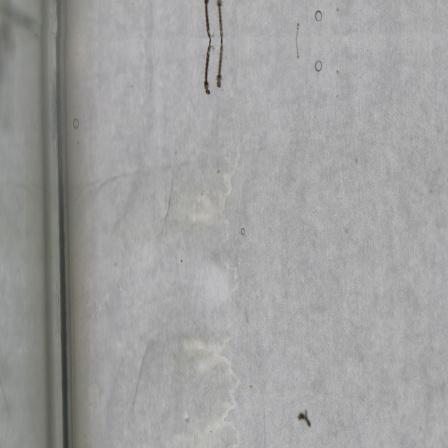Jentik-Nyamuk: (197, 39, 227, 97)
